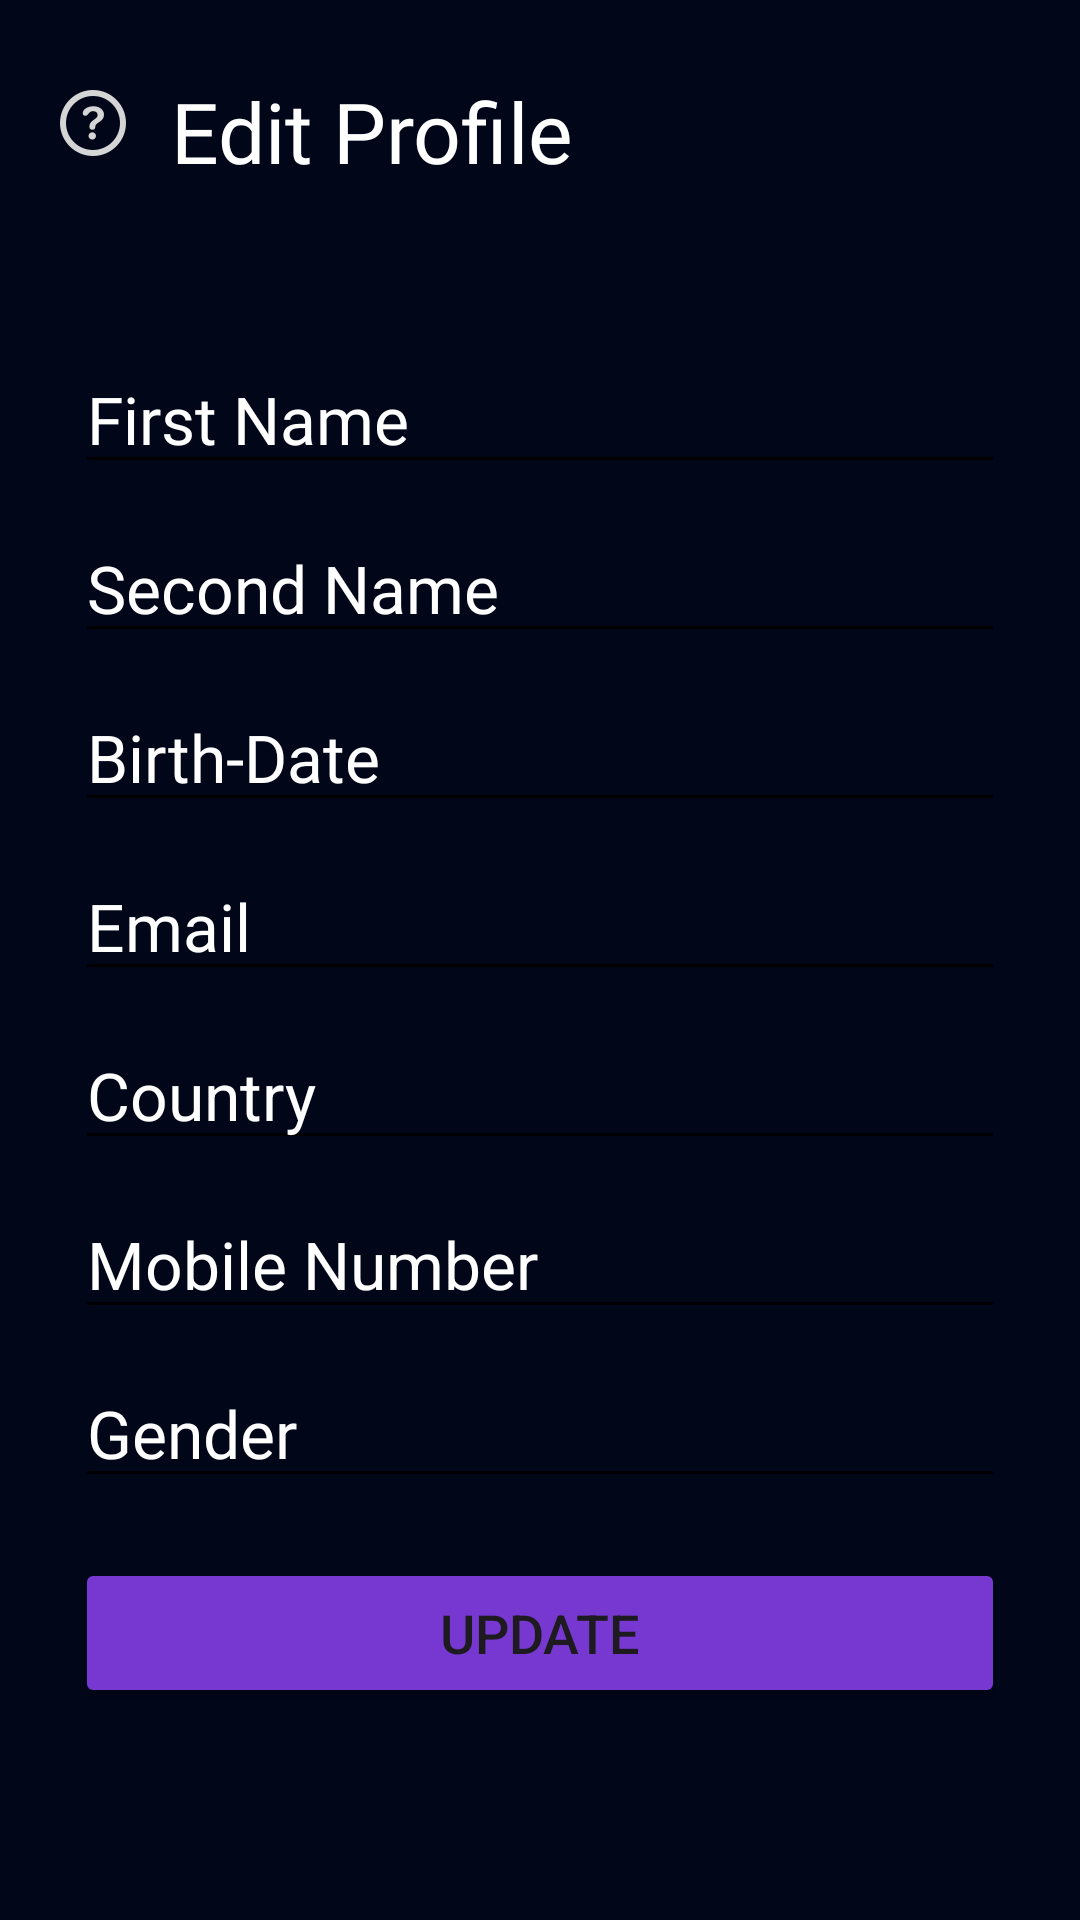

Point at icon controls on the screen. Image size 1080w x 1920h, points as [x,y].
help profile: [93,123]
